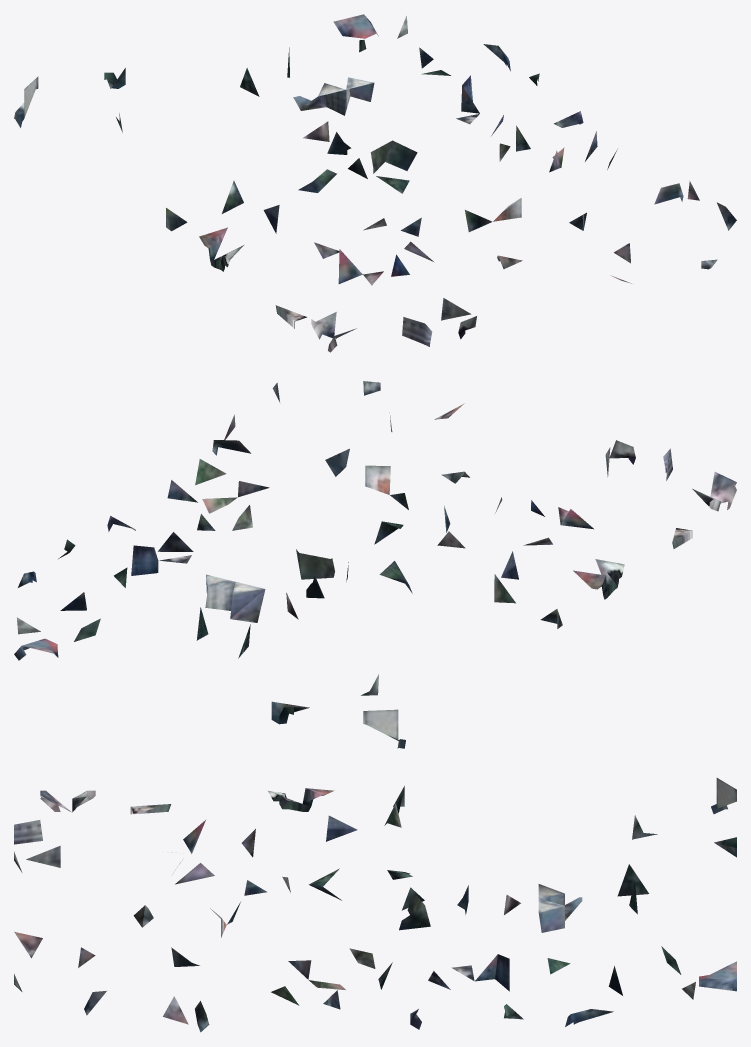
3 views of the same model, one above another, from view 1: azimuth 30°, elevation 25°; view 2: azimuth 150°, elevation 25°; view 3: azimuth 270°, elevation 25° (orthographic). The views are drawn at different scales.
Parts seen in each view (by area): view 1: 30436272704361425_1; view 2: 30436272704361425_1; view 3: 30436272704361425_1.
Part boxes in pixels (x1,y1,x2,y2): 30436272704361425_1: [14, 14, 736, 352]; 30436272704361425_1: [14, 381, 736, 748]; 30436272704361425_1: [14, 778, 736, 1032].
Bounding box in the file's own units: 218 × 25.89 × 306.
1 material, 1 textured.
